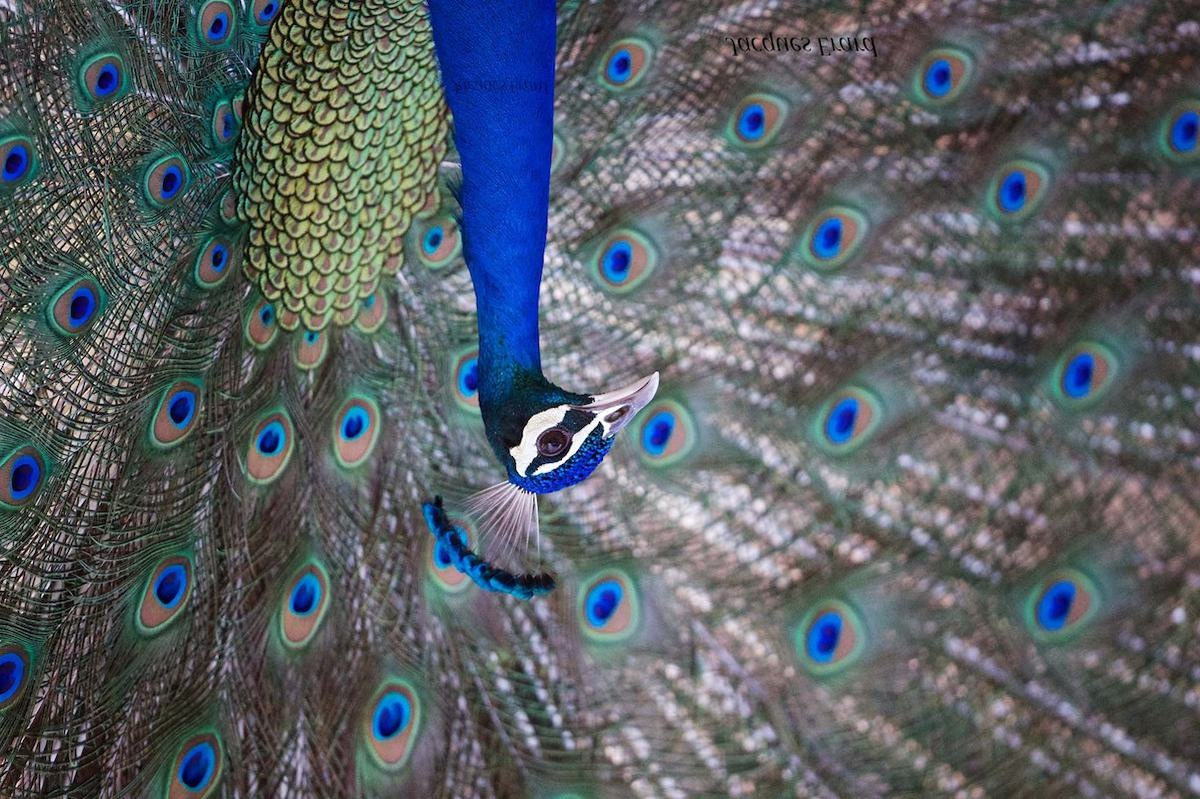peacock: (4, 1, 1200, 799)
